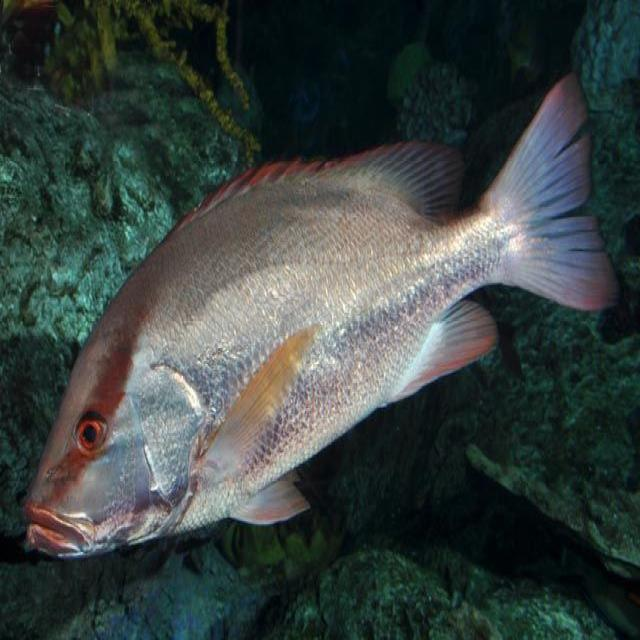ikan: (19, 69, 620, 562)
